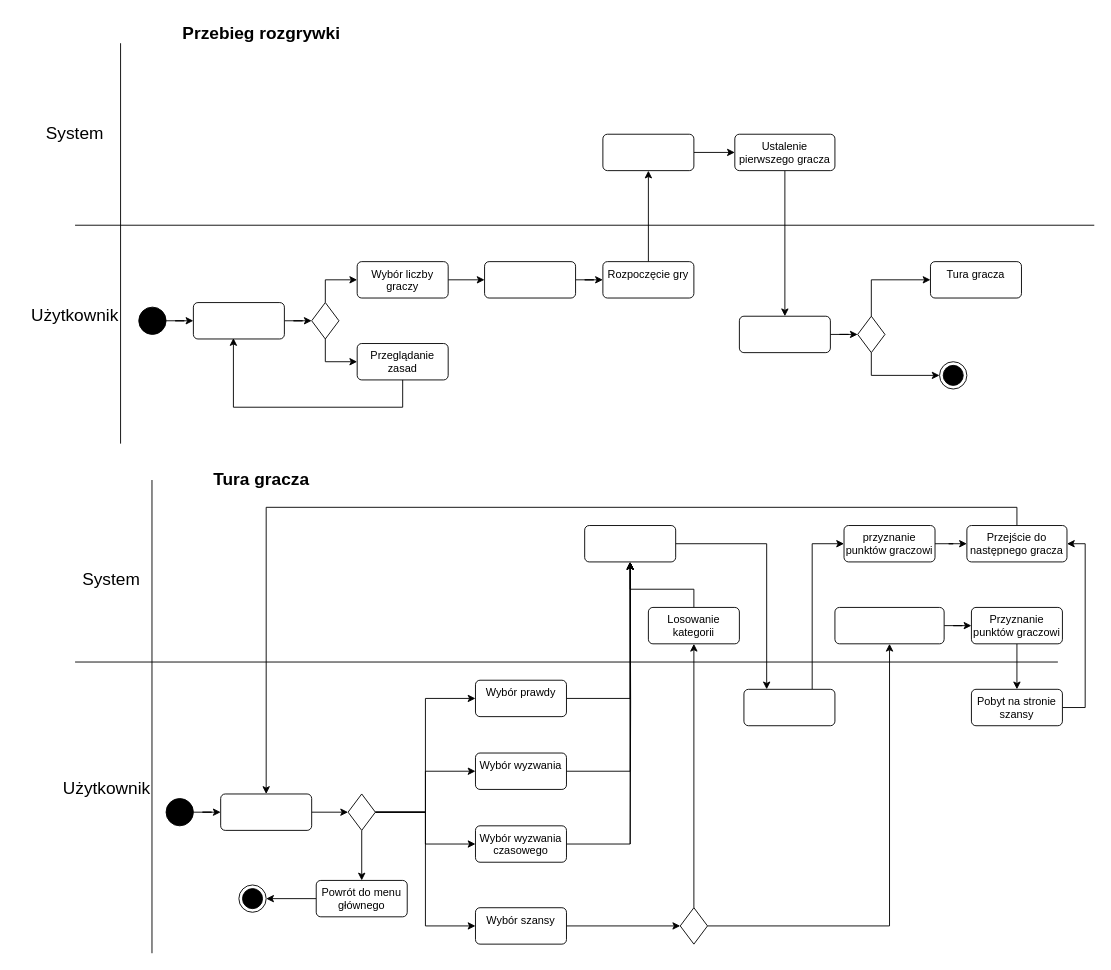
Image size: 1111x970. Some labels were removed from this diagram. Here are the shapes that lost their labels. From the top down, the box of each, then its label:
(602, 133, 694, 171): Zapisanie graczy
(484, 261, 576, 298): Uzupełnienie nazw graczy
(192, 302, 284, 339): Pobyt na stronie głównej
(738, 315, 830, 353): Przejście do menu gracza
(584, 525, 676, 562): Losowanie pytania/wyzwania
(834, 607, 944, 644): Losowanie liczby przyznanych punktów
(743, 688, 835, 726): Pobyt na stronie prawdy/wyzwania
(220, 793, 312, 830): Pobyt w menu gracza
